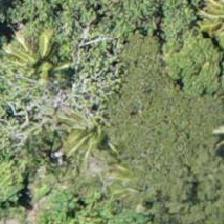coconut_tree: (0, 9, 82, 99)
